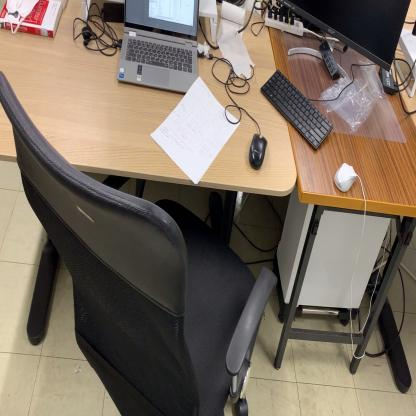chair: (0, 70, 277, 415)
